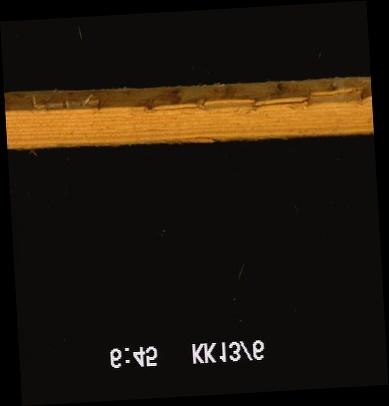wave: (5, 91, 371, 144)
